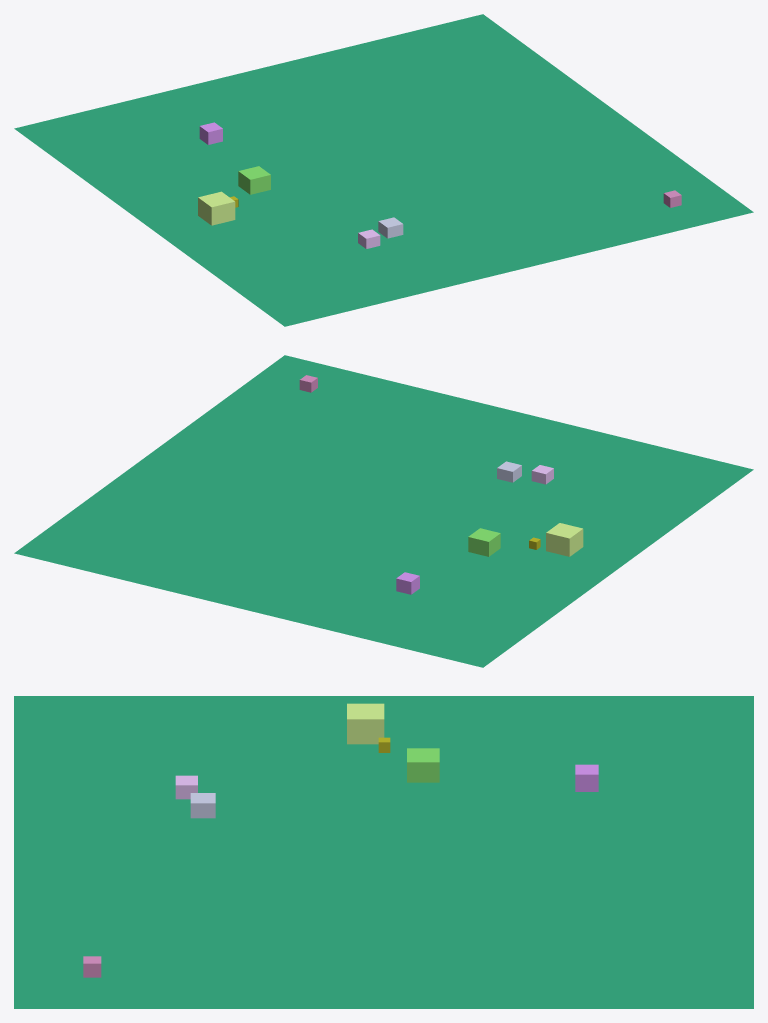
The picture shows the model from 3 angles, top to bottom: view 1: azimuth 30°, elevation 25°; view 2: azimuth 150°, elevation 25°; view 3: azimuth 270°, elevation 25°; orthographic projection. The views are drawn at different scales.
Parts seen in each view (by area): view 1: Chunk_-1_-2; view 2: Chunk_-1_-2; view 3: Chunk_-1_-2.
Part boxes in pixels (box(x1,y1,x2,y2)): Chunk_-1_-2: box(14, 14, 753, 326); Chunk_-1_-2: box(14, 355, 753, 667); Chunk_-1_-2: box(14, 696, 753, 1008).
Bounding box in the file's own units: 1500 × 76.37 × 1500.
